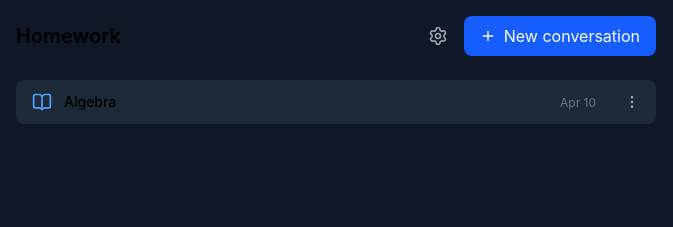
Test case: HomeworkPage – overflow menu › opens the menu with Rename and Delete items
This screenshot has width=673, height=227.
Expected: the text "Algebra" is shown, [64,92,116,112]
Click the button named "Conversation actions" at (632, 102), box [616,86,648,118]
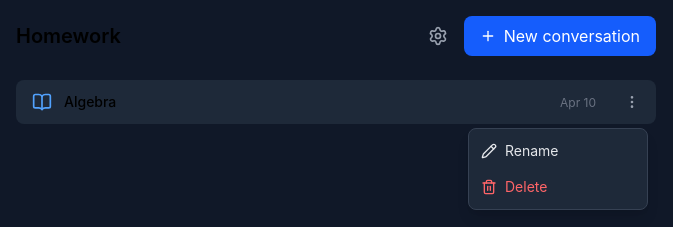
Expected: the menu is shown, [468,128,648,210]
Expected: the menu item "Rename" is shown, [469,133,647,169]
Expected: the menu item "Delete" is shown, [469,169,647,205]
